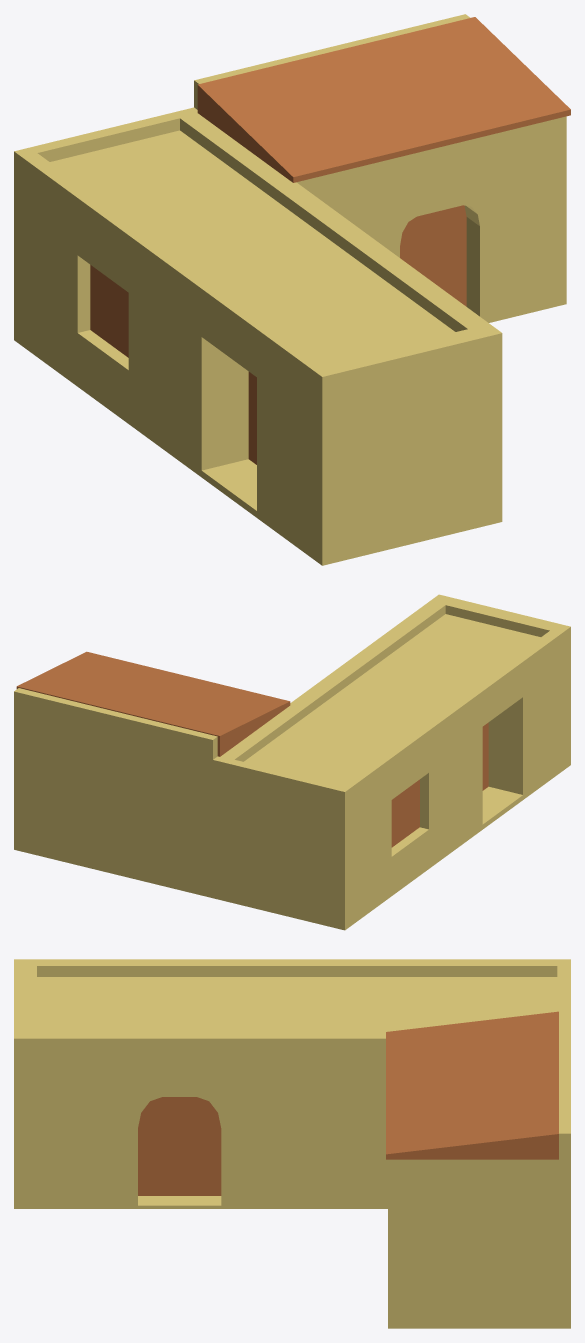
File: Casa1.glb
3 renders of one model, top to bottom at view 1: azimuth 30°, elevation 25°; view 2: azimuth 150°, elevation 25°; view 3: azimuth 270°, elevation 25°, orthographic. The views are drawn at different scales.
Parts seen in each view (by area): view 1: Cube; view 2: Cube; view 3: Cube.
Boxes of the visible parts, x1,y1,x2,y2 form: Cube: [14, 14, 570, 565]; Cube: [14, 594, 570, 930]; Cube: [14, 959, 570, 1328].
Bounding box in the file's own units: 5.65 × 2.58 × 6.64.
